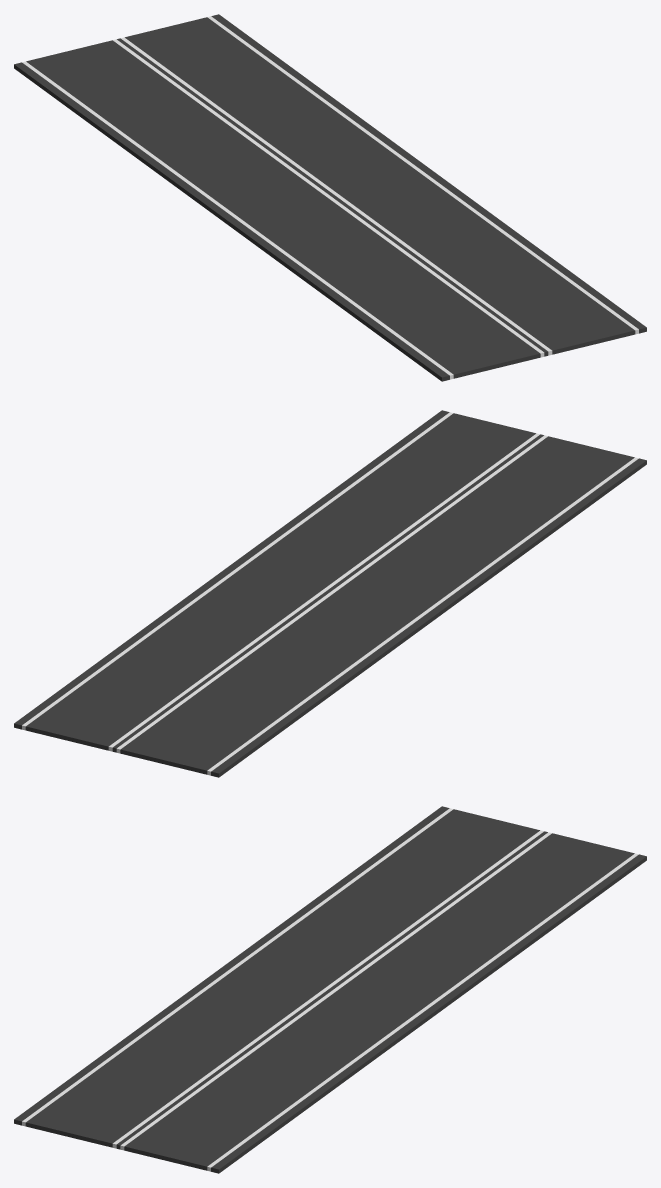
The model's file is first_map-14.obj.
The picture shows the model from 3 angles, top to bottom: view 1: azimuth 30°, elevation 25°; view 2: azimuth 150°, elevation 25°; view 3: azimuth 330°, elevation 25°; orthographic projection.
Size of the model in its own units: 5.2 by 0.1 by 18.8.
Materials: 1 (1 with a texture image).
